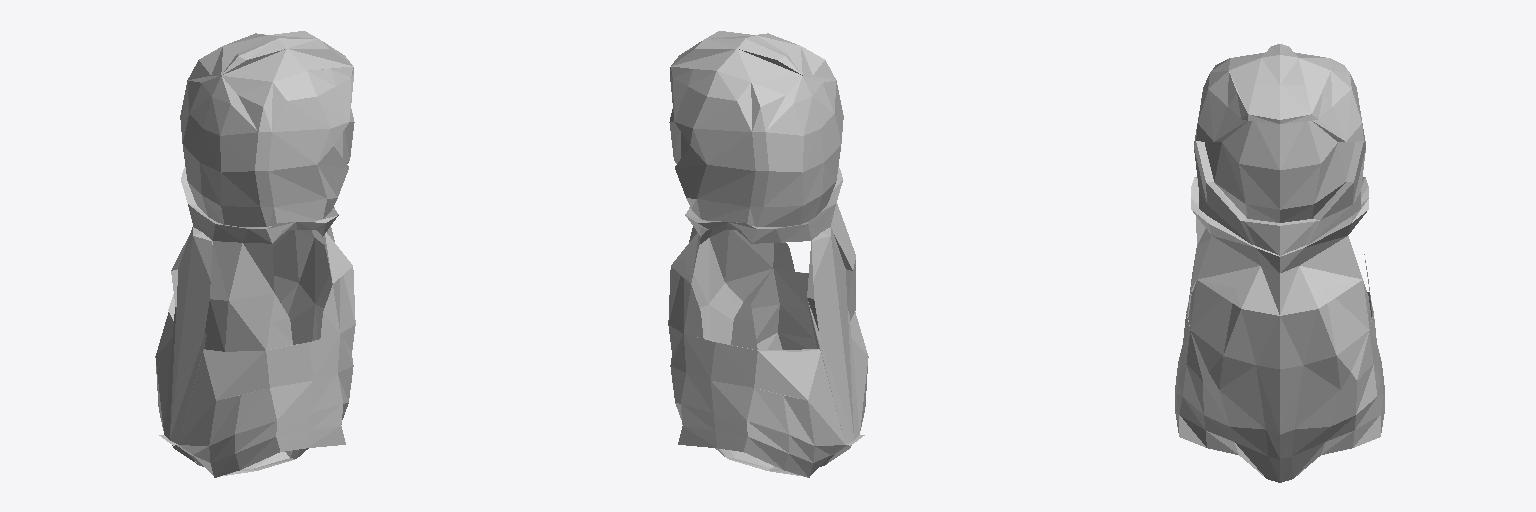
The model's file is kepalabadan.obj.
3 renders of one model, left to right at view 1: azimuth 30°, elevation 25°; view 2: azimuth 150°, elevation 25°; view 3: azimuth 270°, elevation 25°, orthographic.
Visible parts, largest first — view 1: Body.000; view 2: Body.000; view 3: Body.000.
Boxes of the visible parts, box(x1,y1,x2,y2) form: Body.000: box(155, 31, 355, 477); Body.000: box(668, 31, 868, 477); Body.000: box(1175, 44, 1384, 482).
Bounding box in the file's own units: 0.6498 × 1.47 × 0.6592.